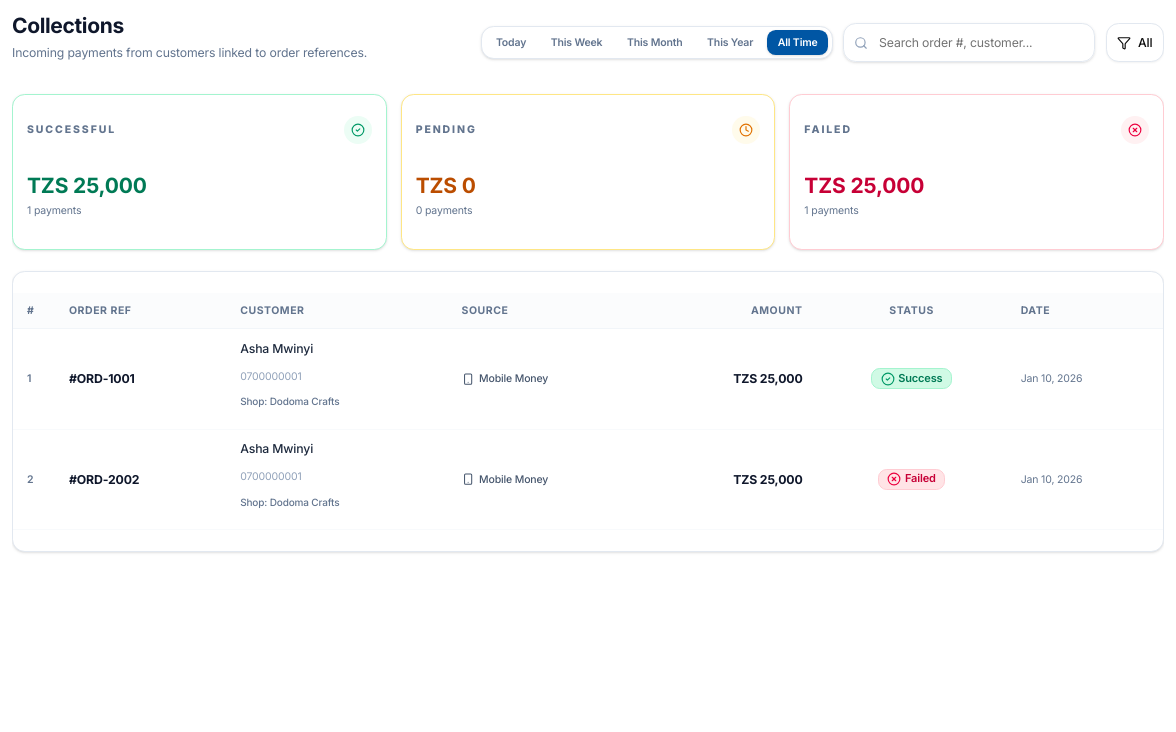
Test case: FinanceCollectionsTab › payment status filter › narrows the table to only the selected status
This screenshot has width=1176, height=732.
Click the button "All" at (1135, 43), box [1106,23,1164,62]
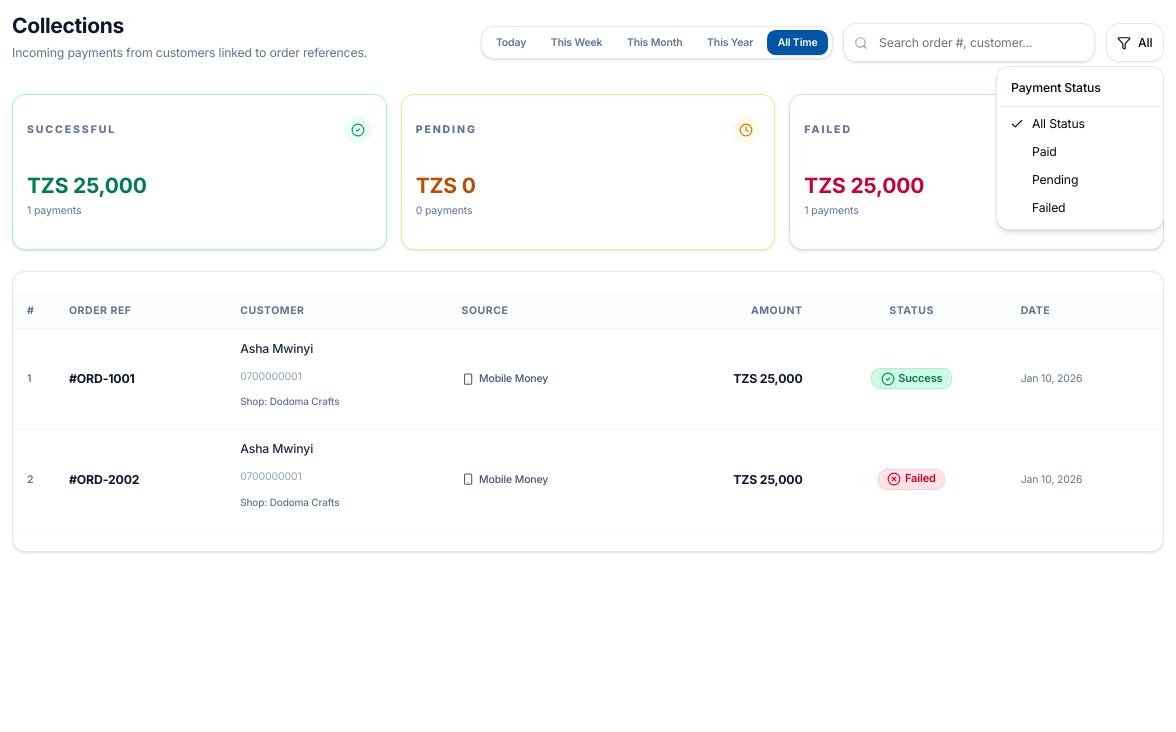
Click the menu item "Failed" at (1049, 208), box [1032,200,1066,215]
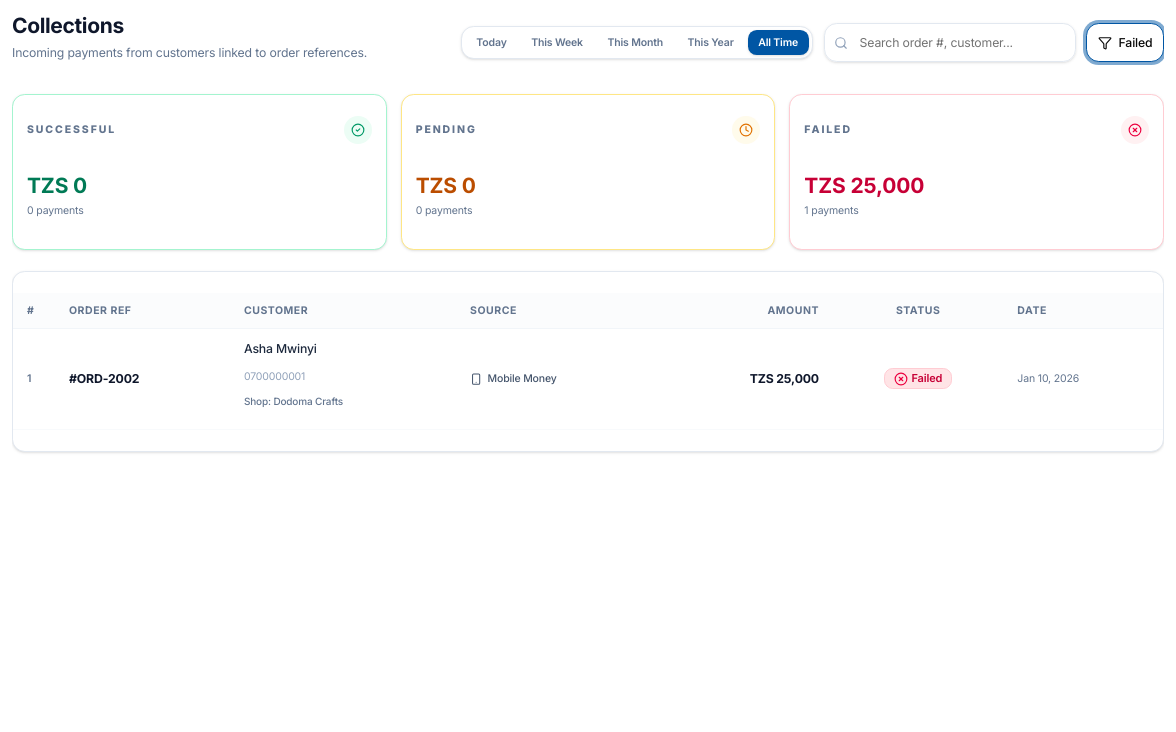
Expected: the text "#ORD-2002" is shown, [69,371,139,386]
Result: the text "#ORD-1001" is gone
